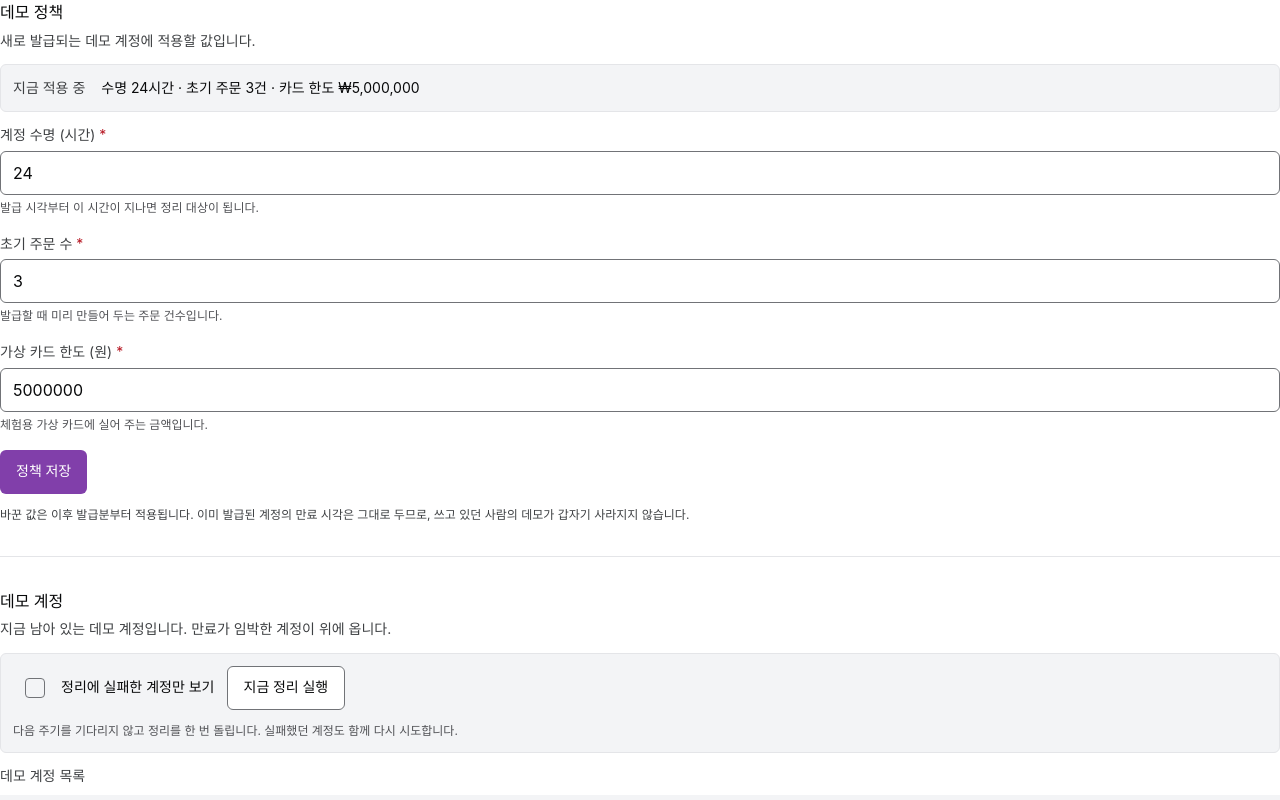
Test: 정책 (F6) › saves a lifetime of one hour
Replace the text in the field labelled "계정 수명 (시간)" with "1": (640, 173) [0,151,1279,195]
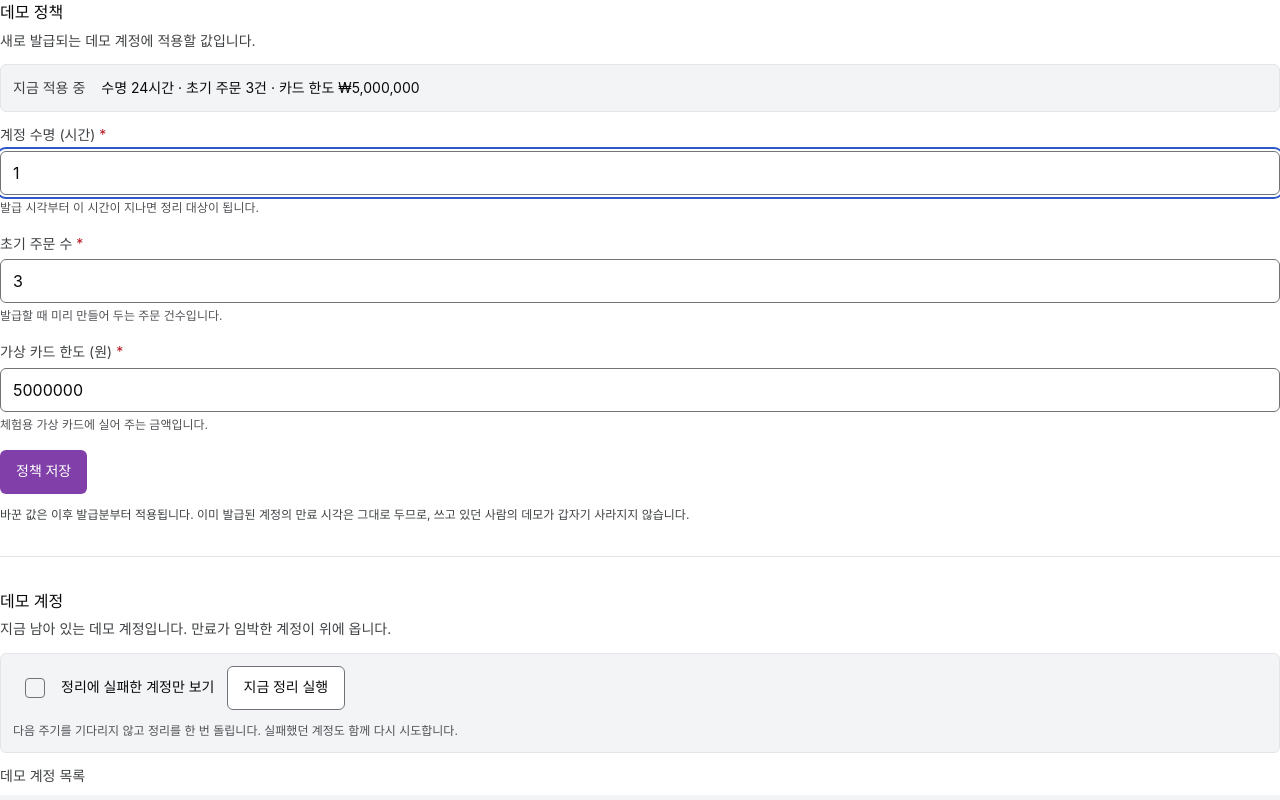
Click the button "정책 저장": (44, 472) [0,450,87,494]
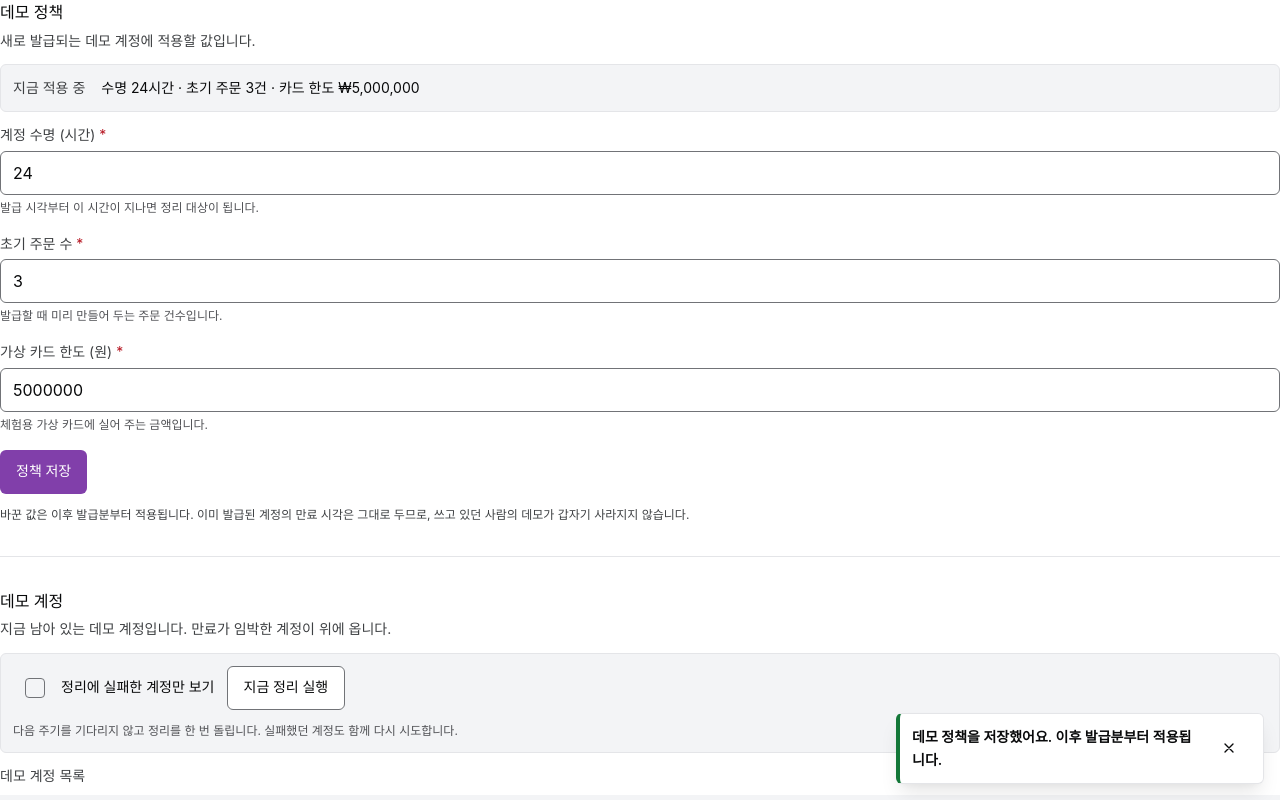
Expected: the text "데모 정책을 저장했어요. 이후 발급분부터 적용됩니다." is shown, [912,726,1195,771]
